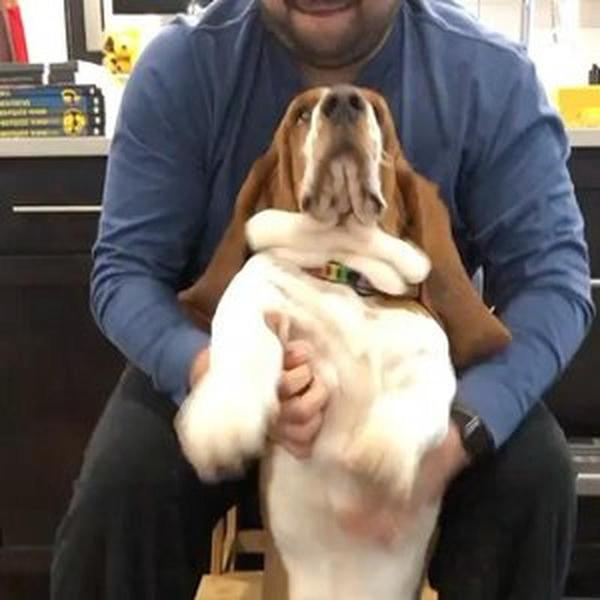allqu: (157, 68, 513, 592)
